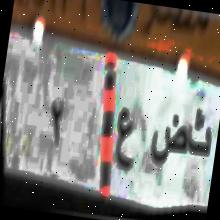2: (44, 94, 71, 157)
ain: (109, 104, 142, 184)
daad: (148, 109, 190, 176)
thaa: (185, 106, 217, 165)
